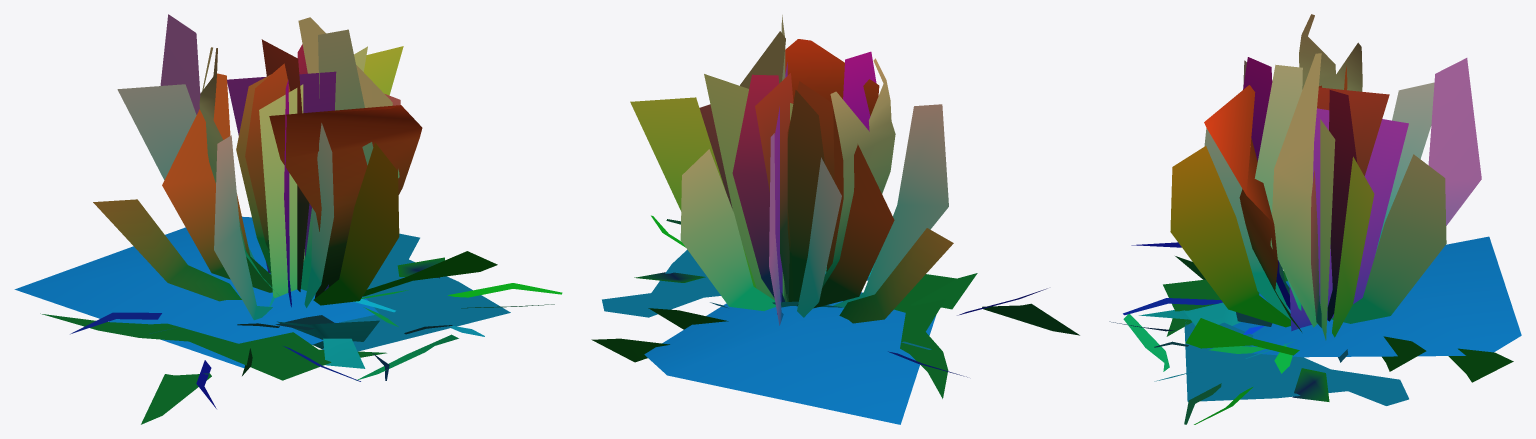
File: Dead_Shrubs_vdknafgha_Low_vdknafgha_VarE_LOD1.fbx
3 views of the same model, side by side, from view 1: azimuth 30°, elevation 25°; view 2: azimuth 150°, elevation 25°; view 3: azimuth 270°, elevation 25° (orthographic).
Visible parts, largest first — view 1: _1v9m_VarE_LOD2; view 2: _1v9m_VarE_LOD2; view 3: _1v9m_VarE_LOD2.
Boxes of the visible parts, x1,y1,x2,y2 form: _1v9m_VarE_LOD2: (14,14,562,424); _1v9m_VarE_LOD2: (591,15,1079,424); _1v9m_VarE_LOD2: (1109,14,1521,424).
Bounding box in the file's own units: 71.32 × 48.51 × 59.5.
